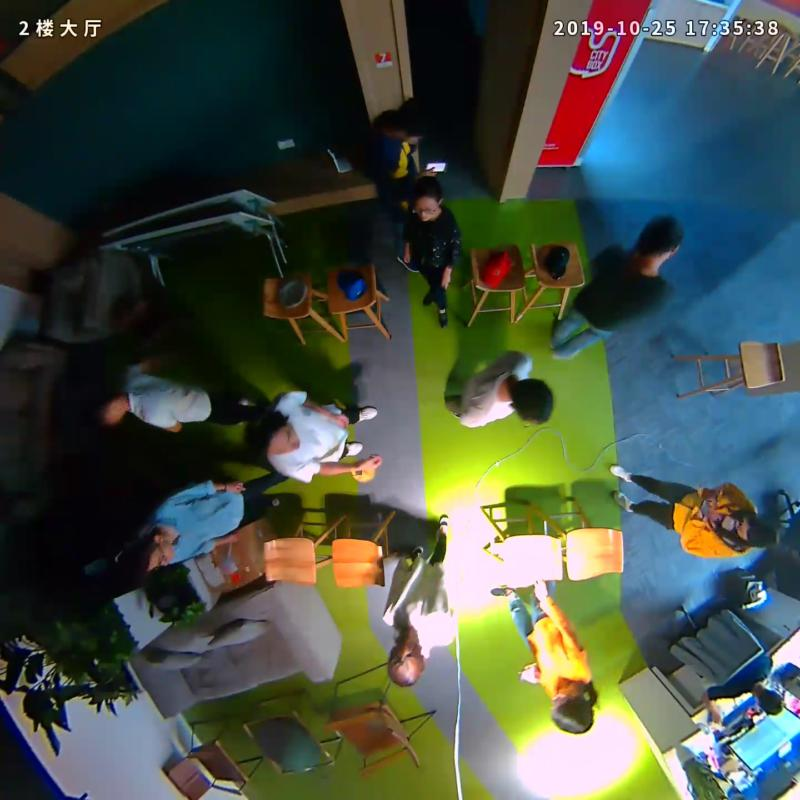head: (118, 532, 179, 578), (247, 408, 302, 456), (550, 678, 594, 736), (387, 96, 437, 144), (637, 217, 685, 265), (511, 378, 556, 428), (84, 381, 128, 428), (385, 637, 426, 687), (734, 511, 780, 554), (413, 177, 442, 223)
